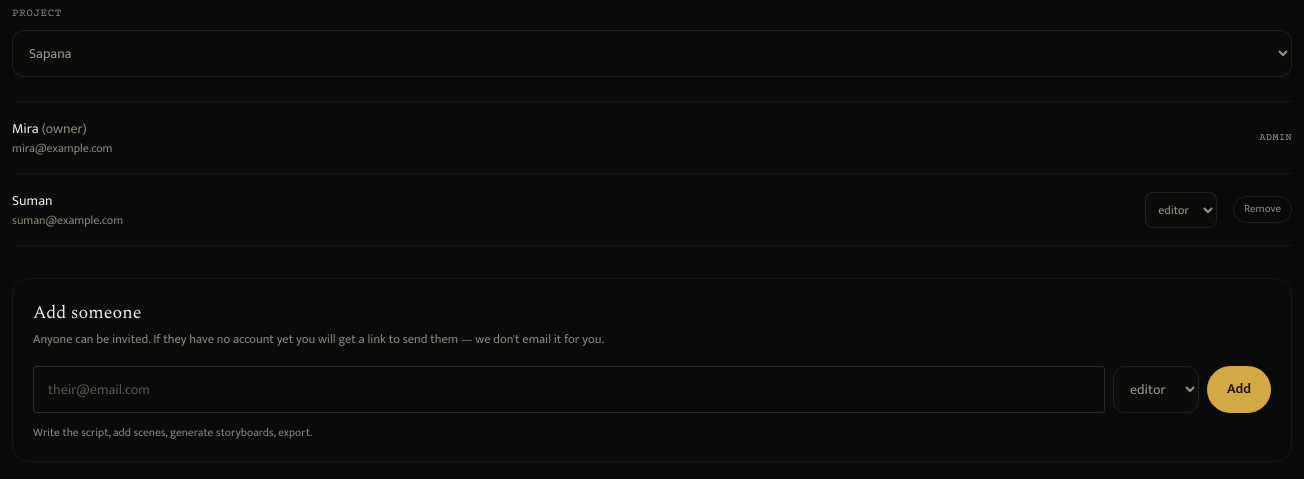
Test case: adding someone › explains what the chosen role can do
Expected: the text "suman@example.com" is shown, [12,210,123,230]
Expected: the text "Write the script, add scenes, generate storyboards, export." is shown, [33,423,313,442]
Select "viewer" in the dropdown named "Role" at (1156, 389), box [1113,366,1199,413]
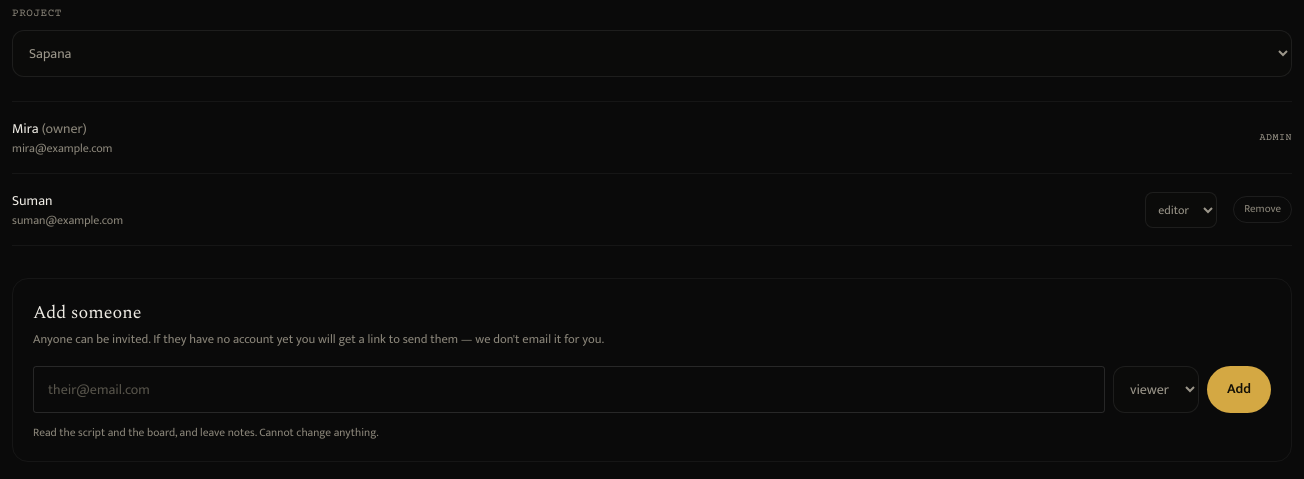
Result: the text "Cannot change anything" is shown at [33,423,379,442]
